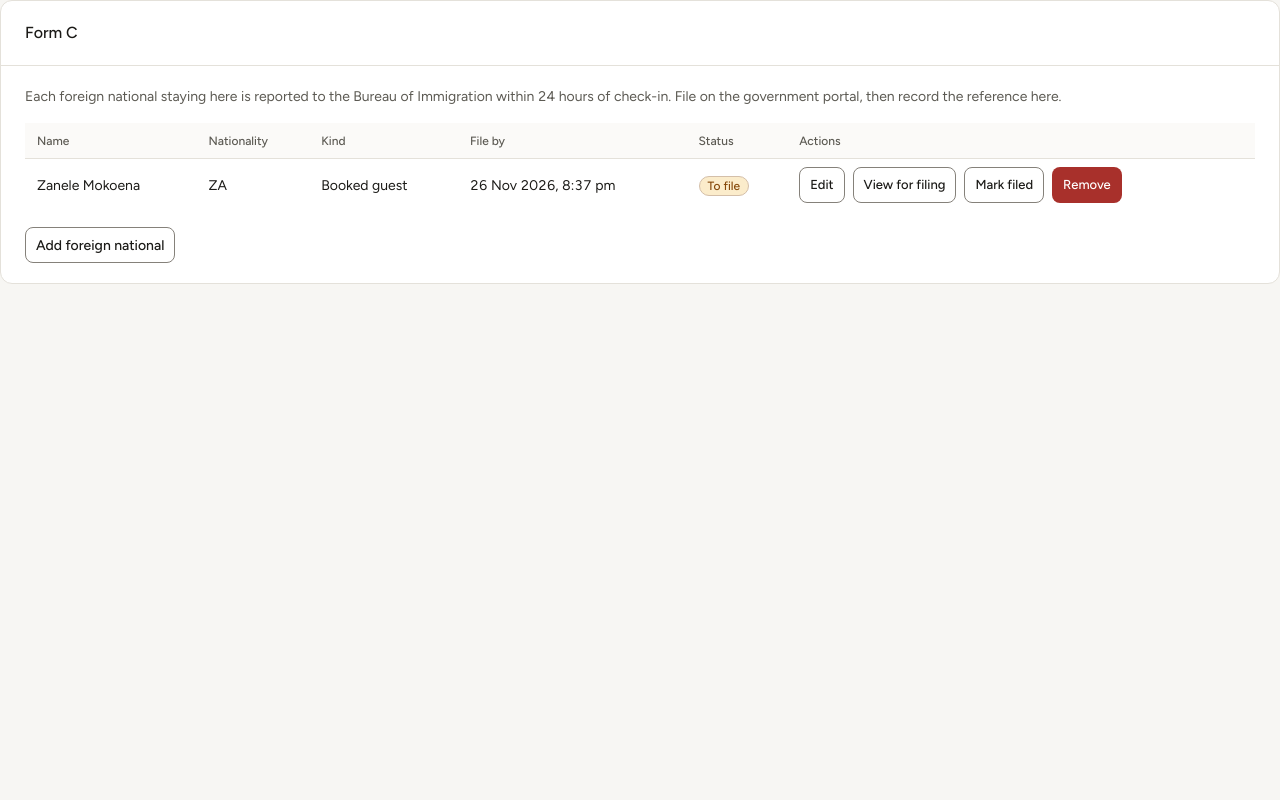
Test case: Form C panel on the stay card › views a record for filing from the audited read, with a print button and no record id
This screenshot has width=1280, height=800.
Later steps or results of the test are not shown.
Click the button with test id "form-c-view-fcb_res_1": (904, 185) [853, 167, 956, 203]
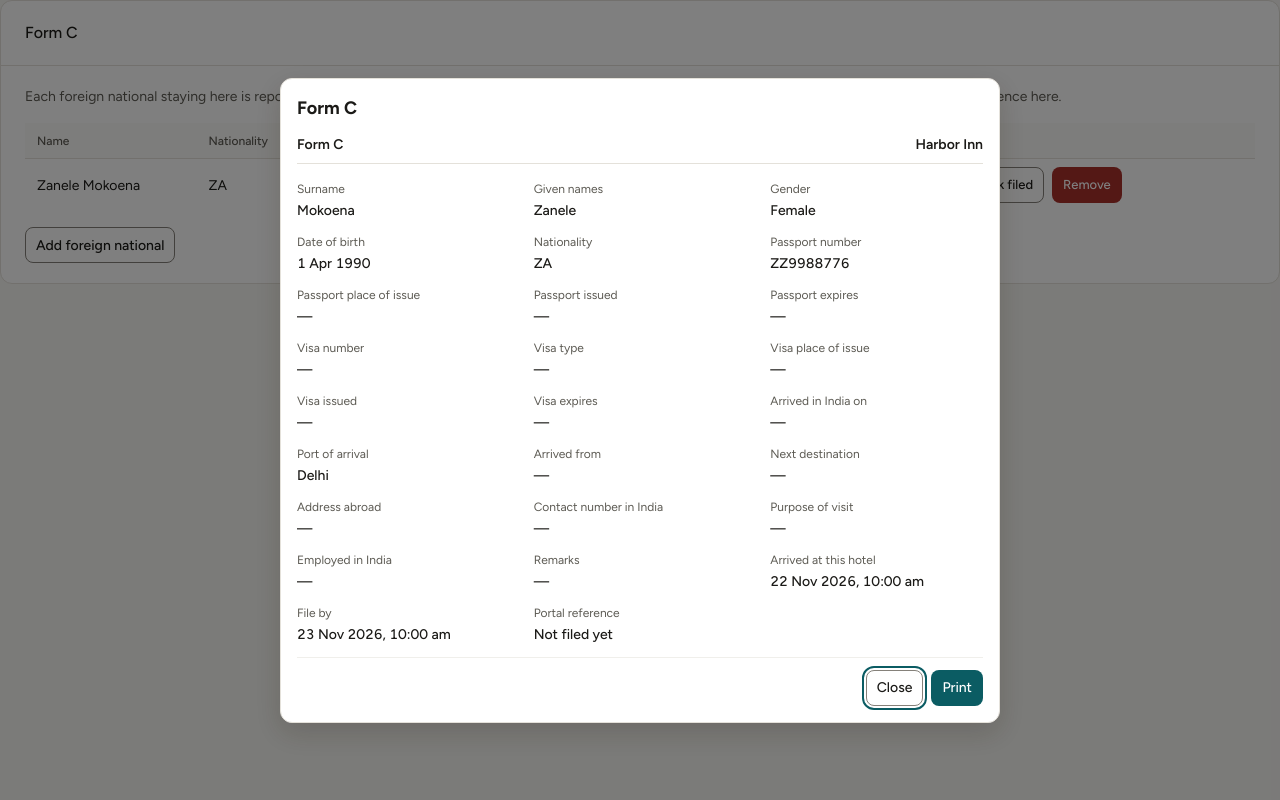
Result: the element with test id "form-c-card" is shown at [297, 134, 983, 644]
Result: the text "ZZ9988776" is shown at [770, 254, 850, 272]
Result: the text "Delhi" is shown at [297, 466, 329, 484]
